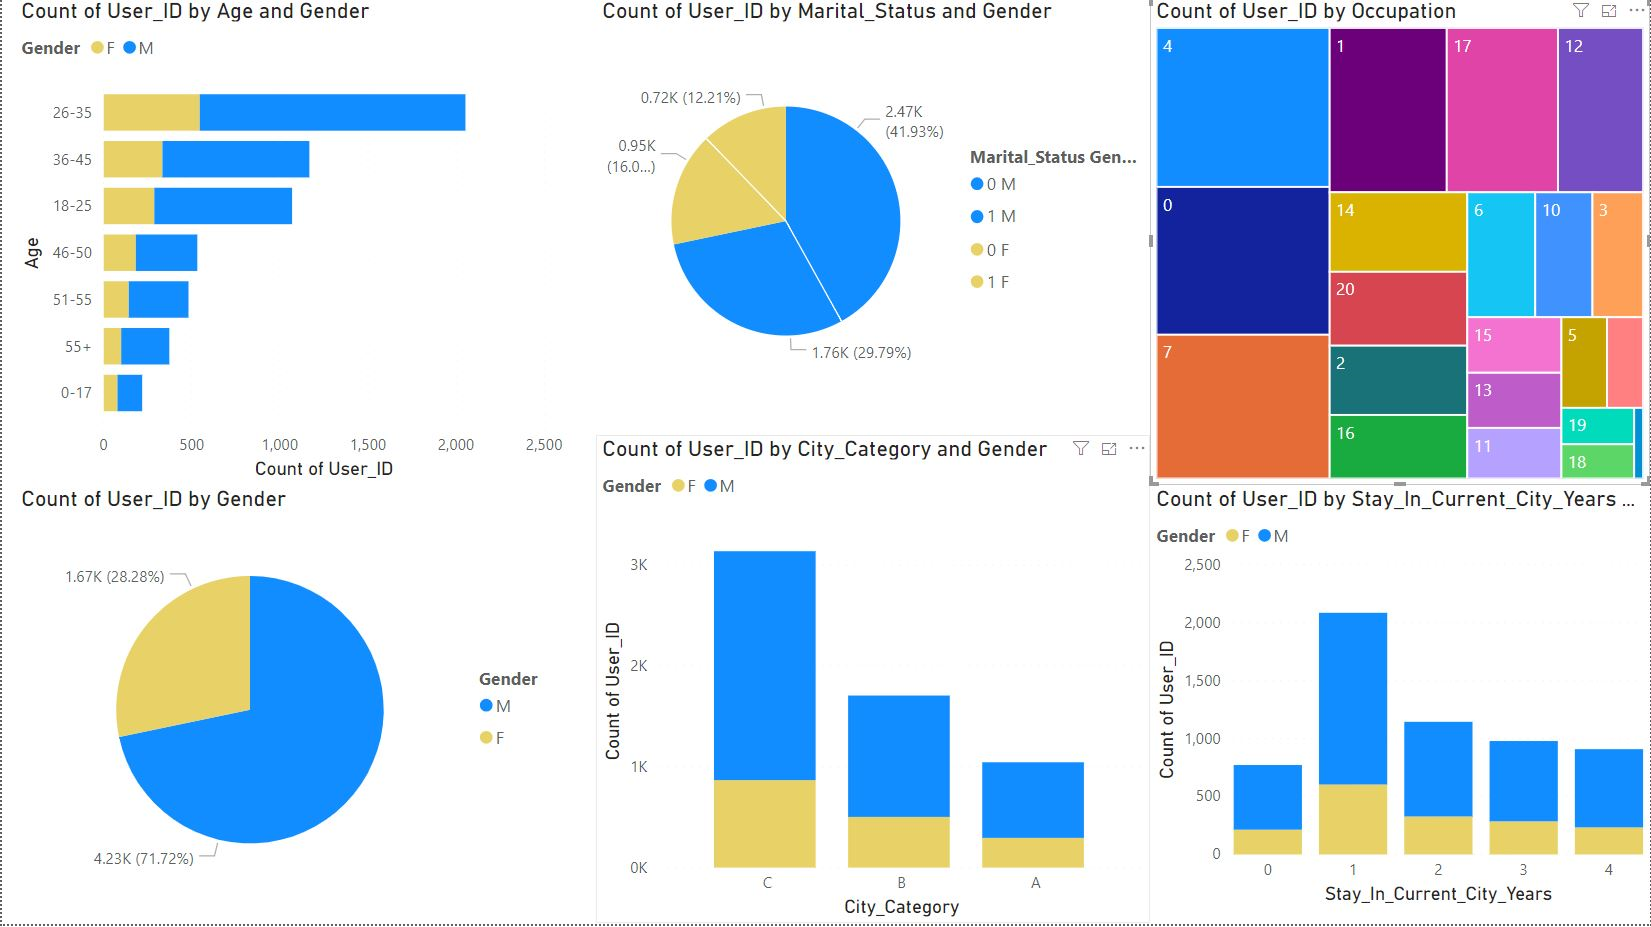

The dashboard page shown, as its layout file describes it:
{"tool":"powerbi","page":{"name":"Page 1","canvas":[1280,720],"ordinal":0},"visuals":[{"type":"barChart","fields":{"Category":["train.Age"],"Y":["Count(train.User_ID)"],"Series":["train.Gender"]},"box":[10,0,431.3,379.3],"z":0},{"type":"pieChart","fields":{"Category":["train.Gender"],"Y":["Count(train.User_ID)"]},"box":[10,379.3,431.3,330.3],"z":1000},{"type":"columnChart","fields":{"Category":["train.City_Category"],"Y":["Count(train.User_ID)"],"Series":["train.Gender"]},"box":[461.4,340.3,430.3,379.3],"z":2000},{"type":"treemap","fields":{"Group":["train.Occupation"],"Values":["Count(train.User_ID)"]},"box":[892,0,388,379],"z":3000},{"type":"columnChart","fields":{"Category":["train.Stay_In_Current_City_Years"],"Y":["Count(train.User_ID)"],"Series":["train.Gender"]},"box":[892,379,388,330],"z":4000},{"type":"pieChart","fields":{"Category":["train.Marital_Status","train.Gender"],"Y":["Count(train.User_ID)"]},"box":[461.4,0,430.3,329.3],"z":5000}]}

Visuals, with their boxes in screenshot pixels (x1, y1, x2, y2), scaled from the page's 1280x720 canvas onto the 1651x927 screenshot:
barChart - train.Age x Count(train.User_ID): l=13, t=0, r=569, b=488
pieChart - train.Gender x Count(train.User_ID): l=13, t=488, r=569, b=914
columnChart - train.City_Category x Count(train.User_ID): l=595, t=438, r=1150, b=926
treemap - train.Occupation x Count(train.User_ID): l=1151, t=0, r=1650, b=488
columnChart - train.Stay_In_Current_City_Years x Count(train.User_ID): l=1151, t=488, r=1650, b=913
pieChart - train.Marital_Status x train.Gender: l=595, t=0, r=1150, b=424
